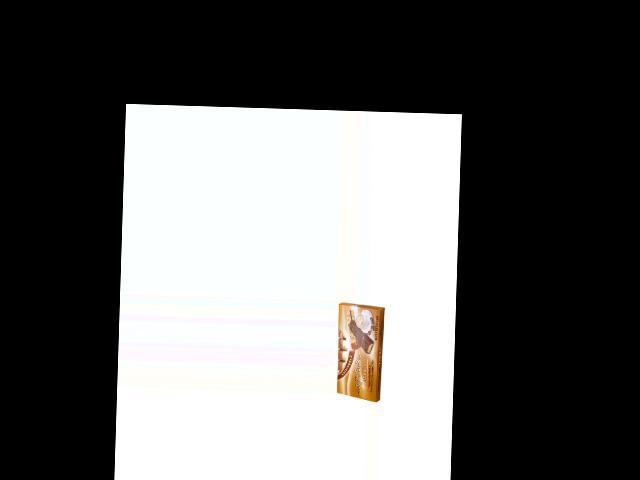chocolate: (335, 301, 385, 404)
